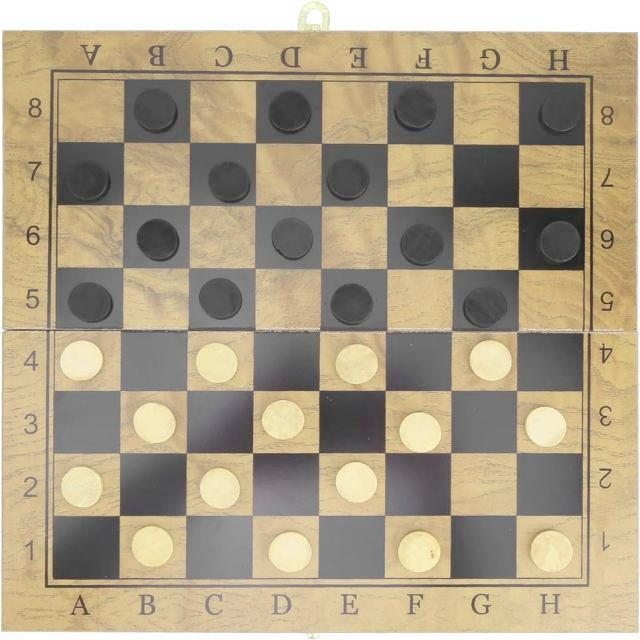chess-table-corners: (35, 56, 78, 96), (25, 566, 68, 604), (566, 565, 607, 602), (568, 64, 604, 97)
